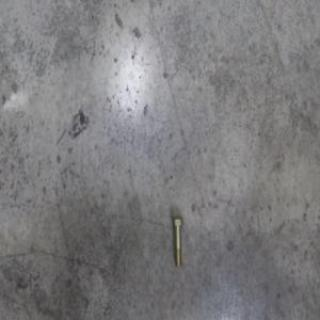Bolttrack_idkeyframe: (171, 216, 184, 269)
